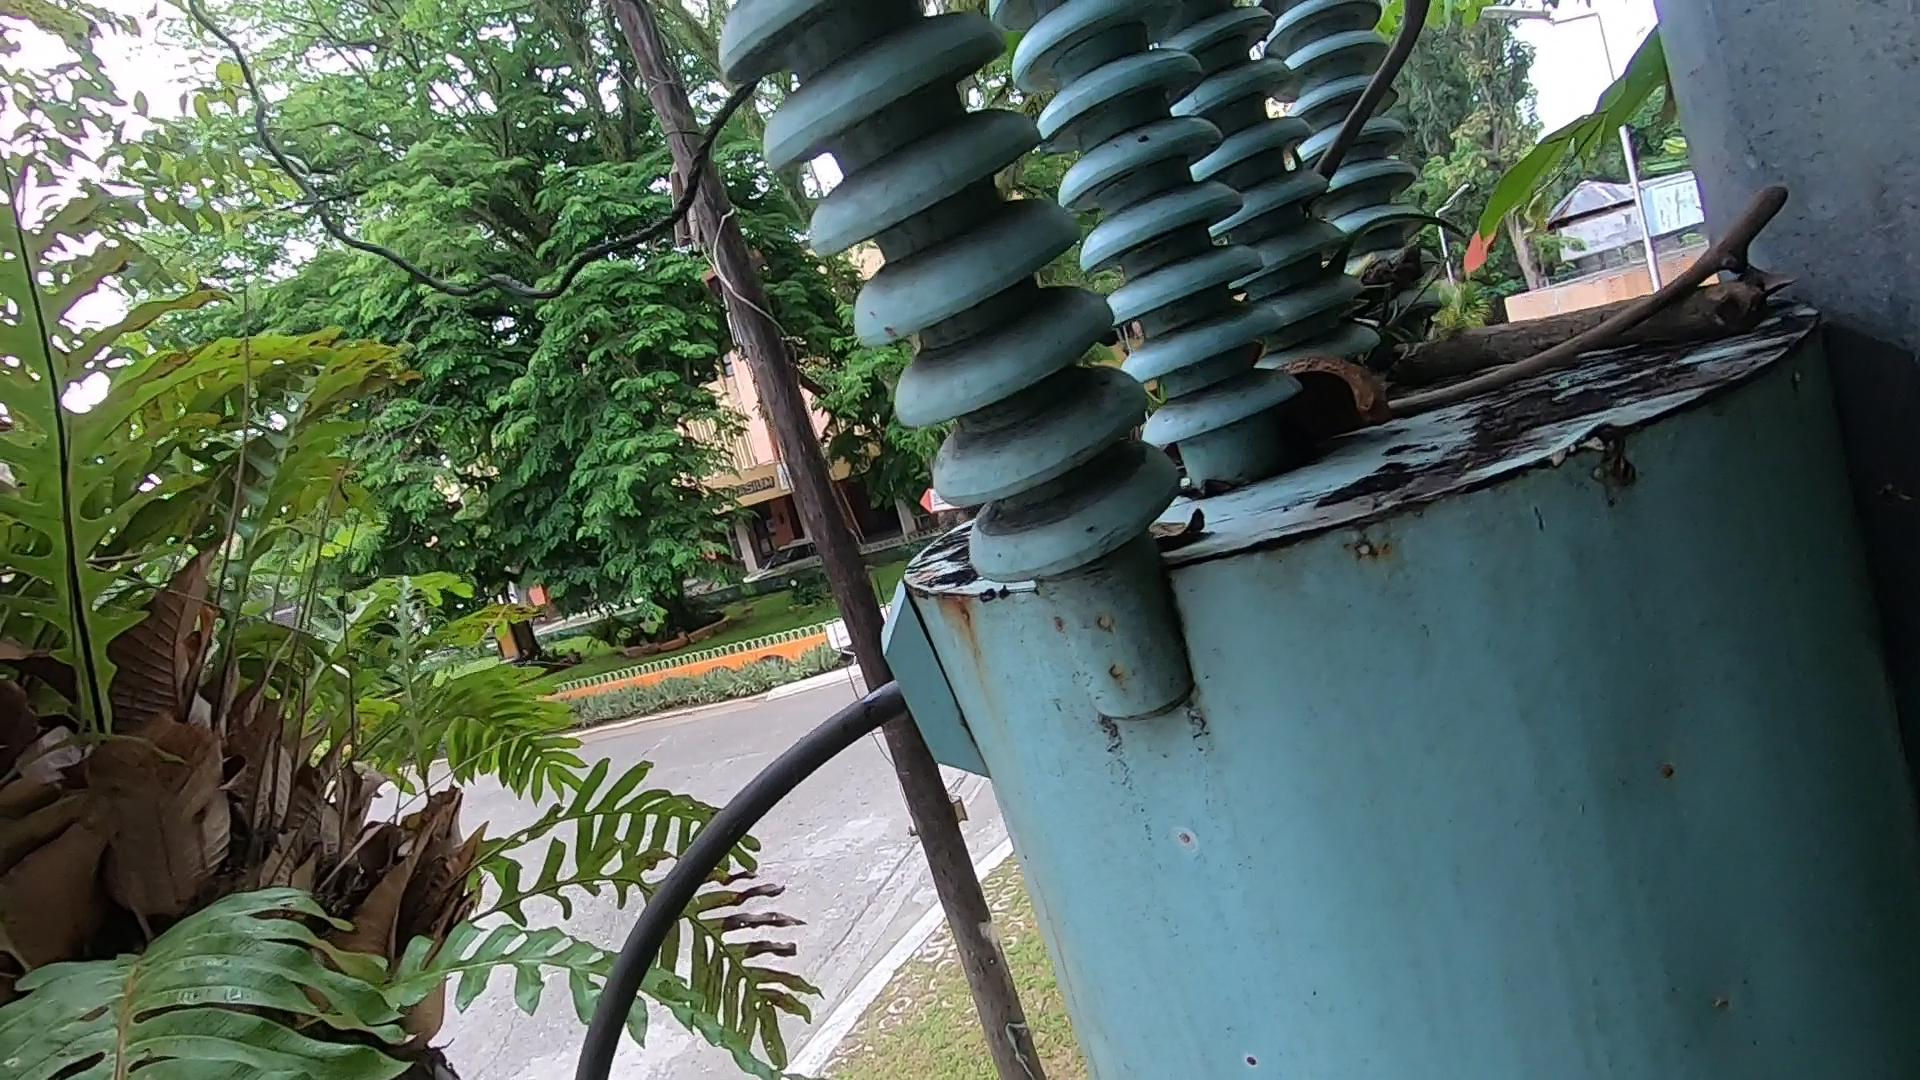branch with leaves: (1320, 257, 1888, 380)
leaf: (1131, 492, 1232, 584)
mahogany fruit: (1249, 295, 1399, 448)
tree branch: (1381, 175, 1826, 426), (1316, 1, 1440, 237)
